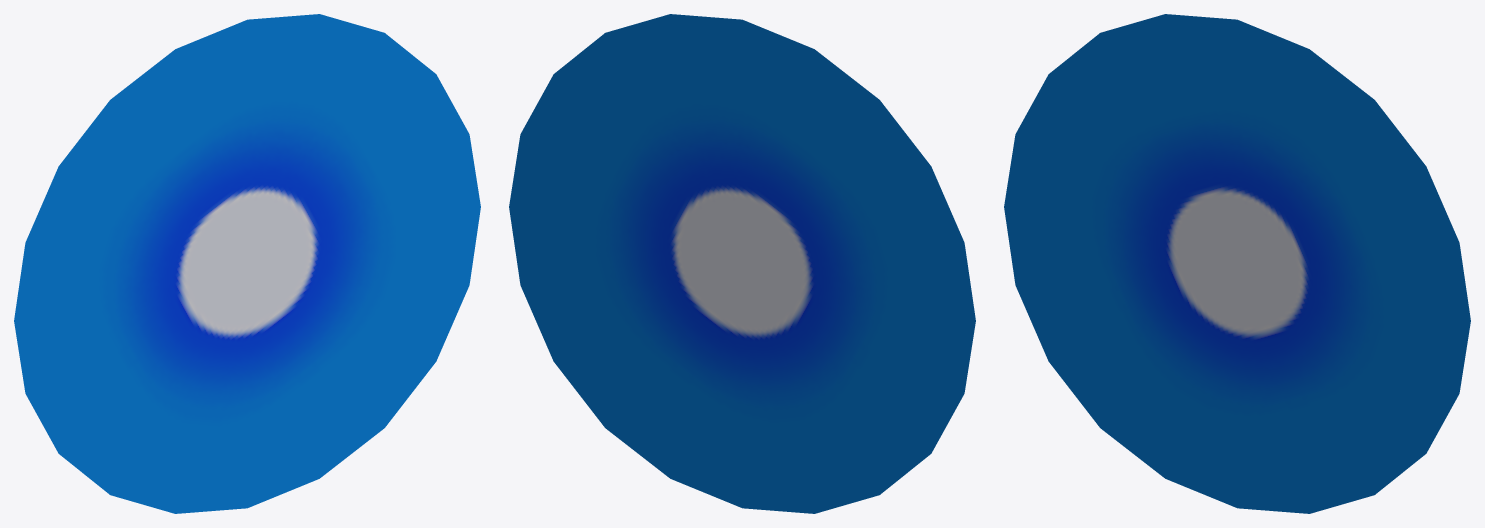
File: bullet_blue.glb
3 views of the same model, side by side, from view 1: azimuth 30°, elevation 25°; view 2: azimuth 150°, elevation 25°; view 3: azimuth 330°, elevation 25° (orthographic).
Parts seen in each view (by area): view 1: Cylinder; view 2: Cylinder; view 3: Cylinder.
Boxes of the visible parts, left/top/right/bottom form: Cylinder: left=14, top=14, right=480, bottom=513; Cylinder: left=509, top=14, right=975, bottom=513; Cylinder: left=1004, top=14, right=1470, bottom=513.
Size of the model in its own units: 8.02 by 8.02 by 6.05e-07.
Materials: 1 (1 with a texture image).
